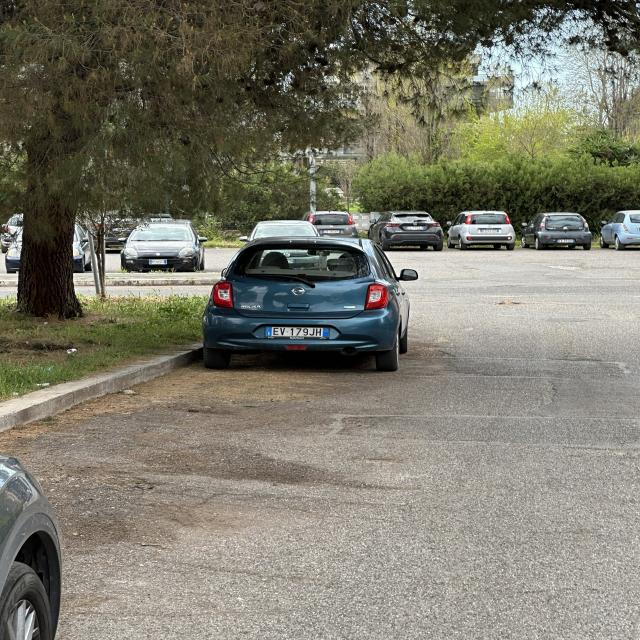number_plate: (266, 322, 326, 341)
